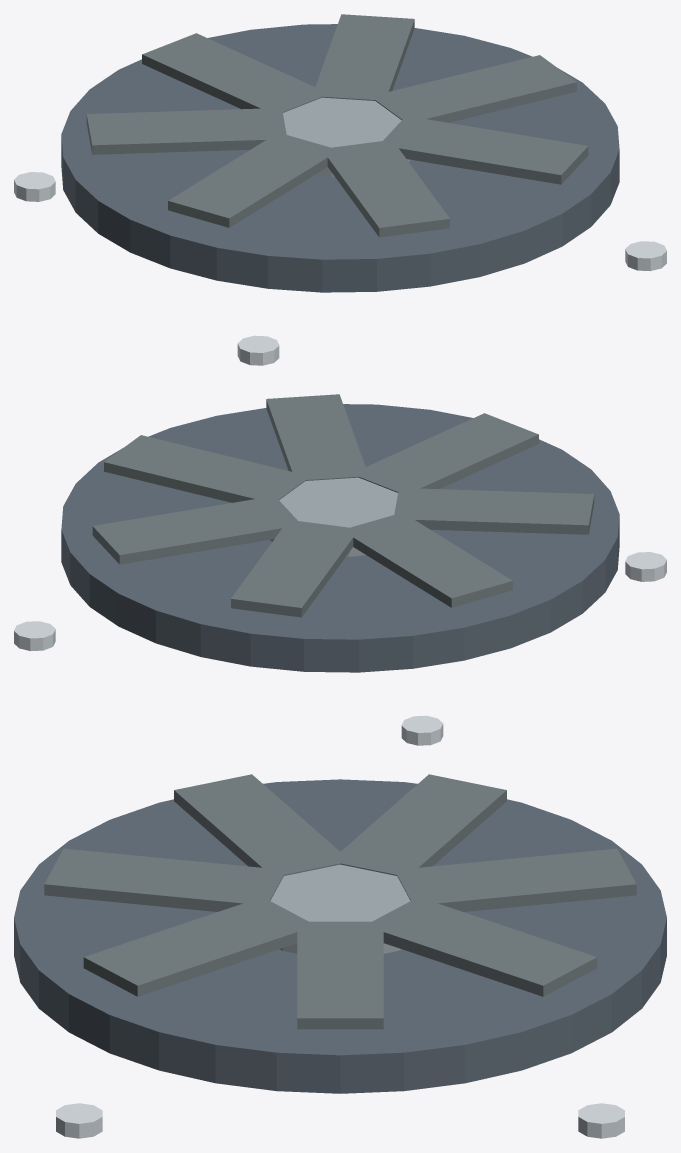
File: 180_L114_FAN1.glb
3 views of the same model, one above another, from view 1: azimuth 30°, elevation 25°; view 2: azimuth 150°, elevation 25°; view 3: azimuth 270°, elevation 25° (orthographic). The views are drawn at different scales.
Visible parts, largest first — view 1: 180_L114_FAN1__PSMAT__Fan_Black, 180_L114_FAN1__PSMAT__Fan_Rubber, 180_L114_FAN1__PSMAT__Aluminum_Anodized, 180_L114_FAN1__PSMAT__Tin_Solder; view 2: 180_L114_FAN1__PSMAT__Fan_Black, 180_L114_FAN1__PSMAT__Fan_Rubber, 180_L114_FAN1__PSMAT__Aluminum_Anodized, 180_L114_FAN1__PSMAT__Tin_Solder; view 3: 180_L114_FAN1__PSMAT__Fan_Black, 180_L114_FAN1__PSMAT__Fan_Rubber, 180_L114_FAN1__PSMAT__Aluminum_Anodized, 180_L114_FAN1__PSMAT__Tin_Solder.
Part boxes in pixels (box(x1,y1,x2,y2)): 180_L114_FAN1__PSMAT__Fan_Black: box(61, 24, 619, 292); 180_L114_FAN1__PSMAT__Fan_Rubber: box(86, 14, 588, 237); 180_L114_FAN1__PSMAT__Aluminum_Anodized: box(283, 97, 410, 176); 180_L114_FAN1__PSMAT__Tin_Solder: box(14, 172, 666, 365); 180_L114_FAN1__PSMAT__Fan_Black: box(61, 404, 619, 672); 180_L114_FAN1__PSMAT__Fan_Rubber: box(92, 394, 594, 617); 180_L114_FAN1__PSMAT__Aluminum_Anodized: box(270, 477, 397, 556); 180_L114_FAN1__PSMAT__Tin_Solder: box(14, 552, 666, 745); 180_L114_FAN1__PSMAT__Fan_Black: box(14, 779, 666, 1093); 180_L114_FAN1__PSMAT__Fan_Rubber: box(44, 774, 636, 1029); 180_L114_FAN1__PSMAT__Aluminum_Anodized: box(270, 864, 410, 953); 180_L114_FAN1__PSMAT__Tin_Solder: box(56, 1103, 624, 1138).
Size of the model in its own units: 0.04 by 0.00837 by 0.04.
